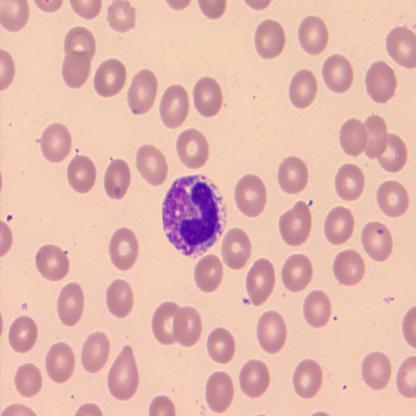Band Neutrophil: (160, 171, 228, 262)
